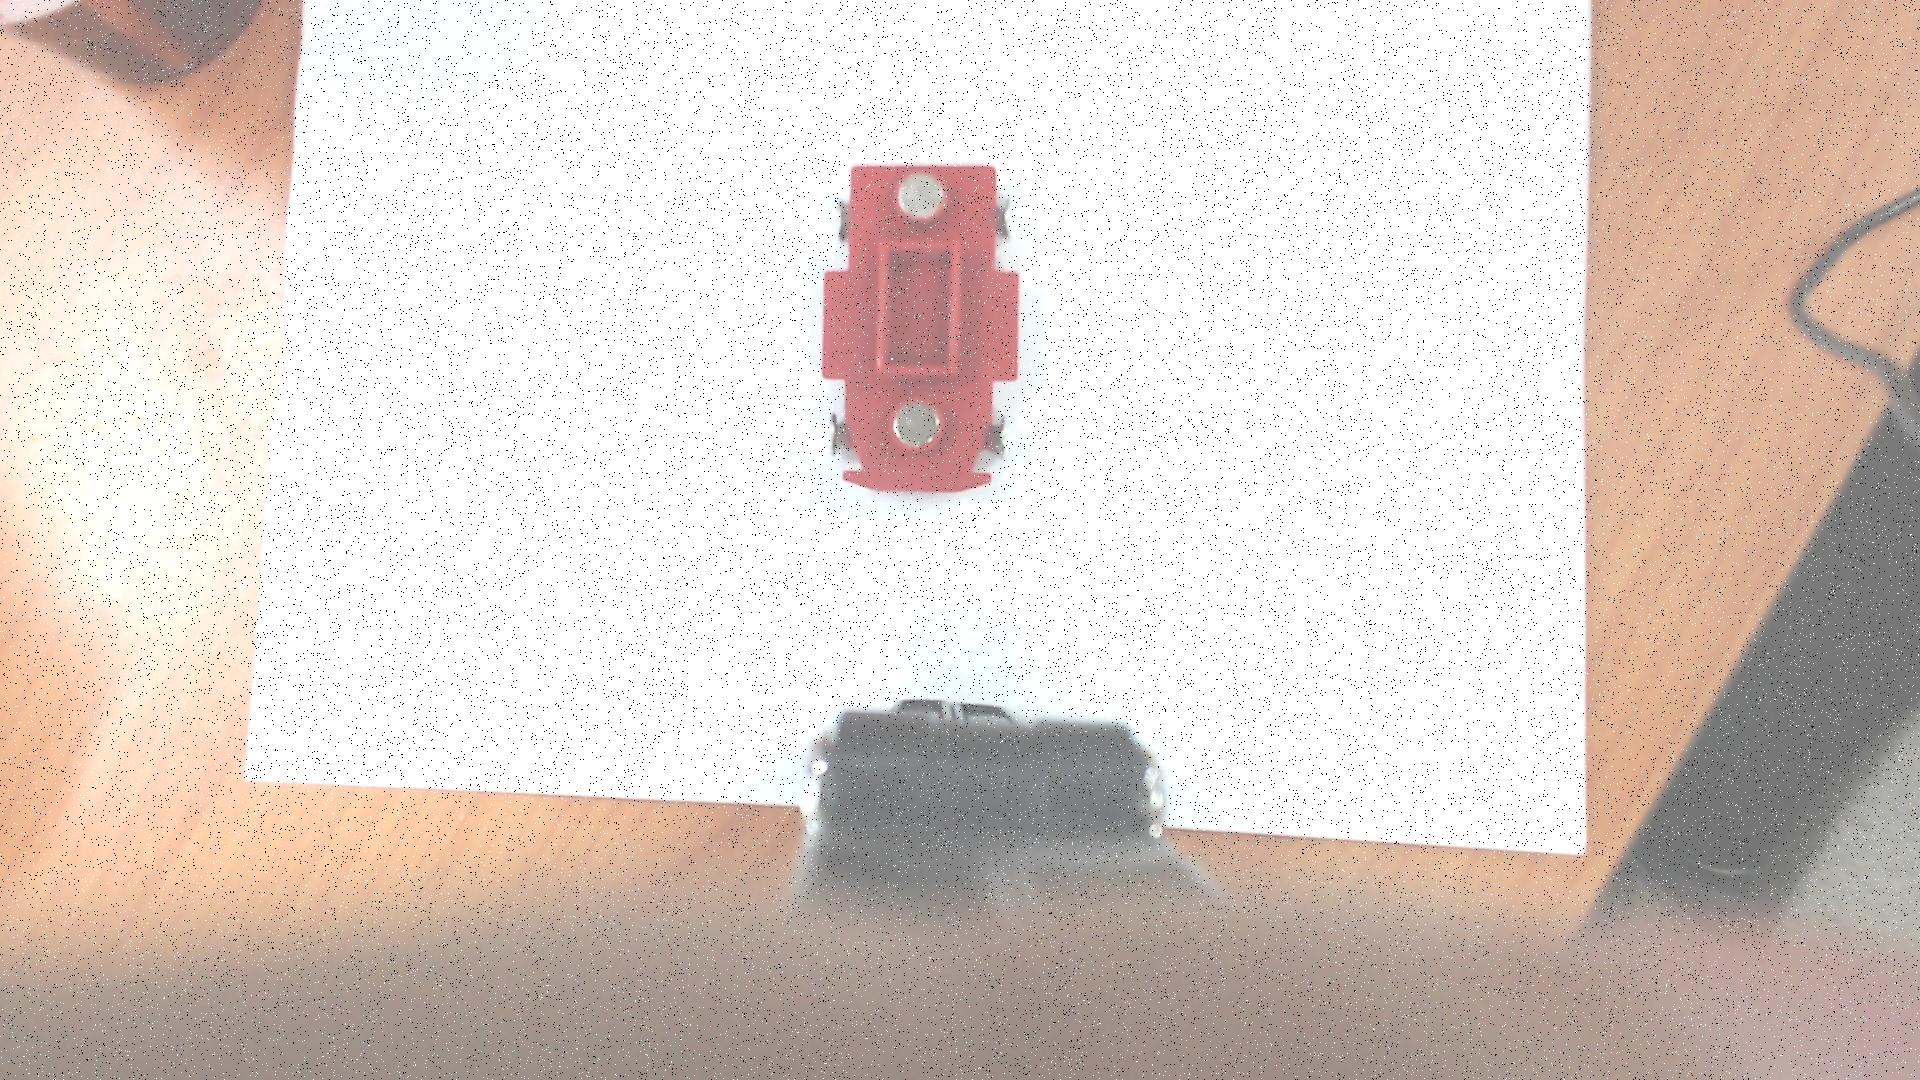lower_ok: (868, 233, 969, 385)
